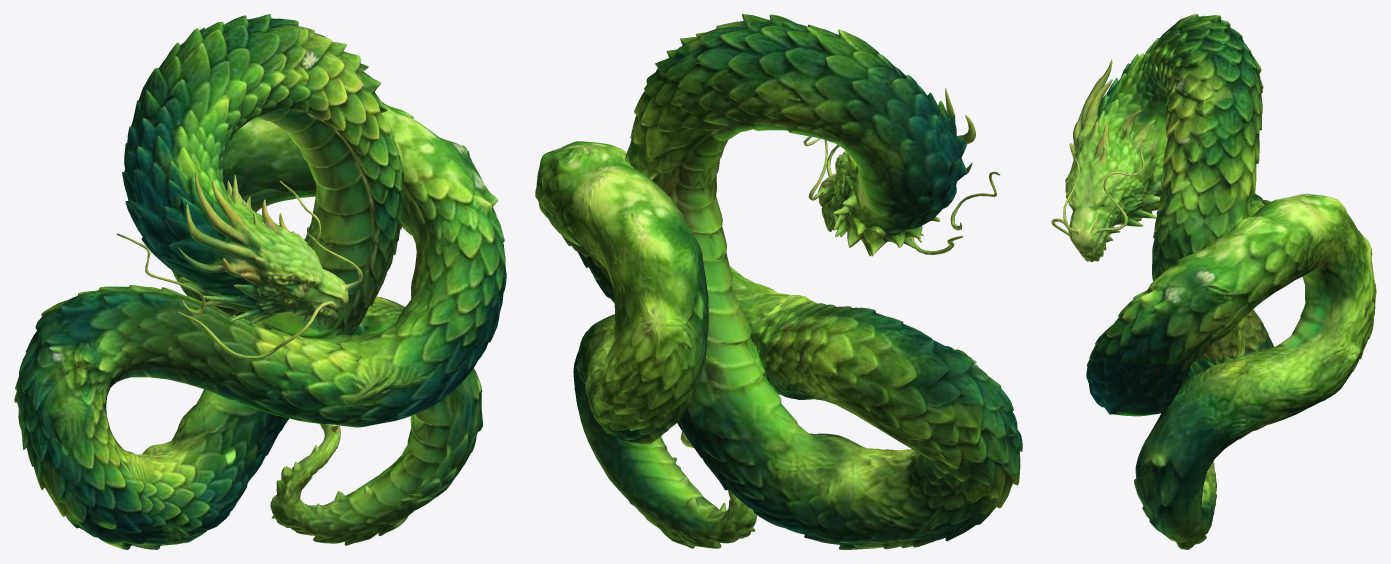
The model's file is mini_wgc8.glb.
3 views of the same model, side by side, from view 1: azimuth 30°, elevation 25°; view 2: azimuth 150°, elevation 25°; view 3: azimuth 270°, elevation 25° (orthographic). The views are drawn at different scales.
Bounding box in the file's own units: 1.67 × 1.9 × 1.19.
Materials: 1 (1 with a texture image).
